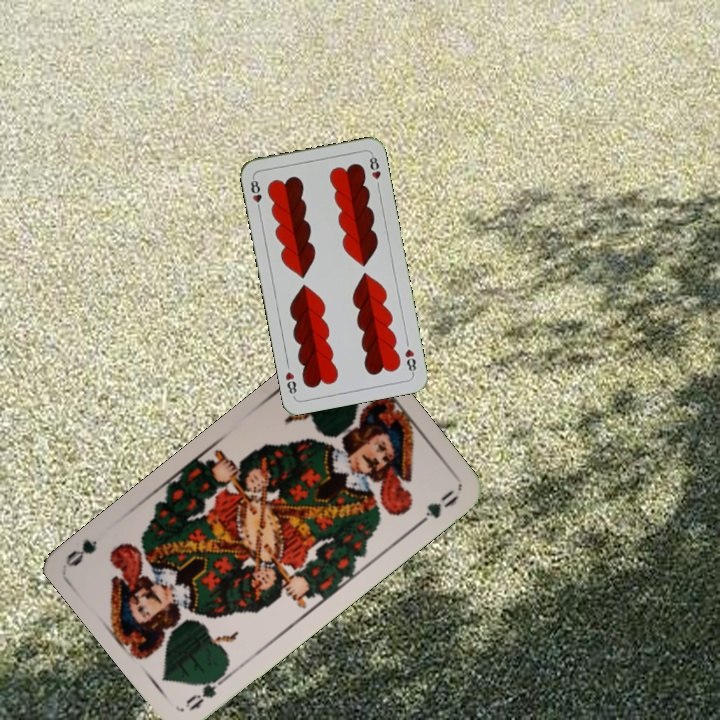GO: (181, 666, 233, 714)
H8: (247, 173, 264, 214), (401, 345, 419, 377)
